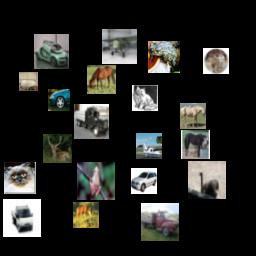airplane: (102, 29, 137, 64), (136, 133, 162, 159), (19, 72, 38, 91)
automobile: (34, 34, 69, 69), (131, 168, 157, 194), (48, 89, 70, 111)
bird: (188, 161, 226, 199)
cat: (4, 162, 36, 194), (132, 85, 158, 111), (203, 48, 229, 74)
deer: (43, 134, 72, 163), (73, 202, 99, 228)
frog: (77, 162, 115, 200), (148, 41, 180, 73)
truck: (141, 203, 179, 241), (3, 199, 41, 237), (74, 104, 109, 139)
